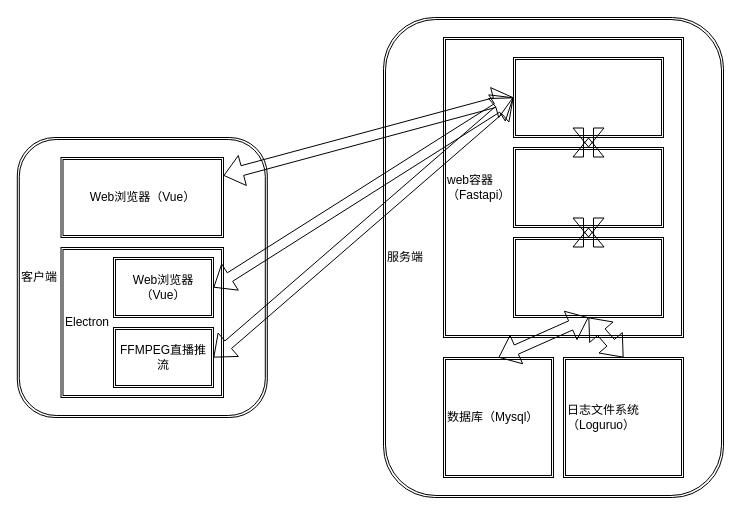
Some shapes in this 742 by 515 pixel diagram are drawn without their labels. The shapes that lost their labels are listed below. From the top down, each one's centre as x and y in pixels, then its label:
At [588,97]: "视图层（View）".
At [588,187]: "业务逻辑层（Controller）".
At [588,277]: "Model层（Sqlalchemy+Alembic）".
